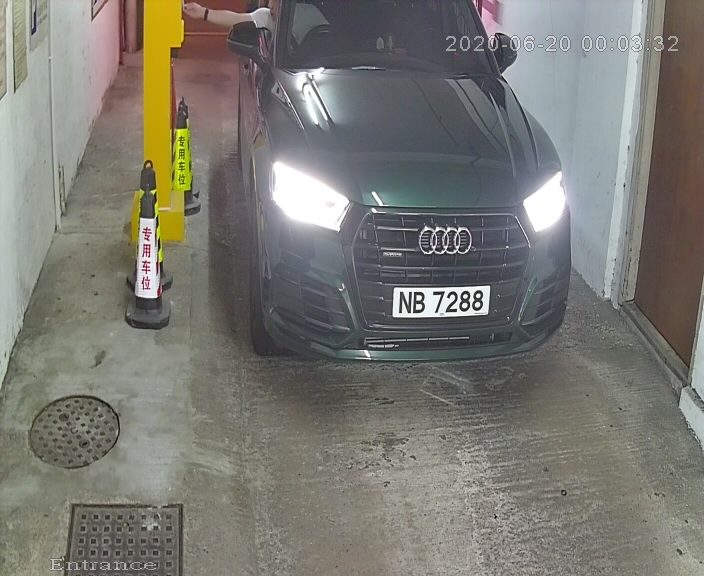privatecar: (201, 3, 583, 381)
